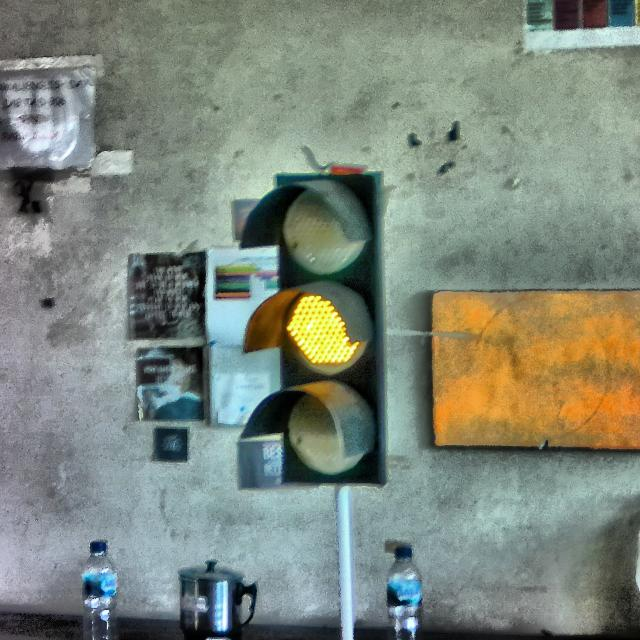yellow: (240, 169, 388, 486)
